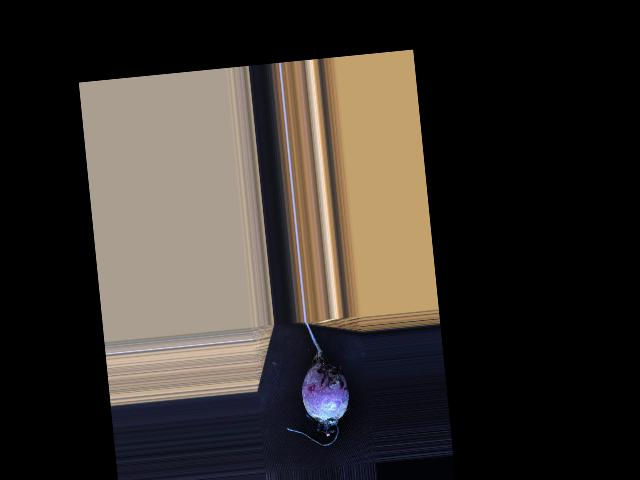beet: (276, 317, 354, 449)
